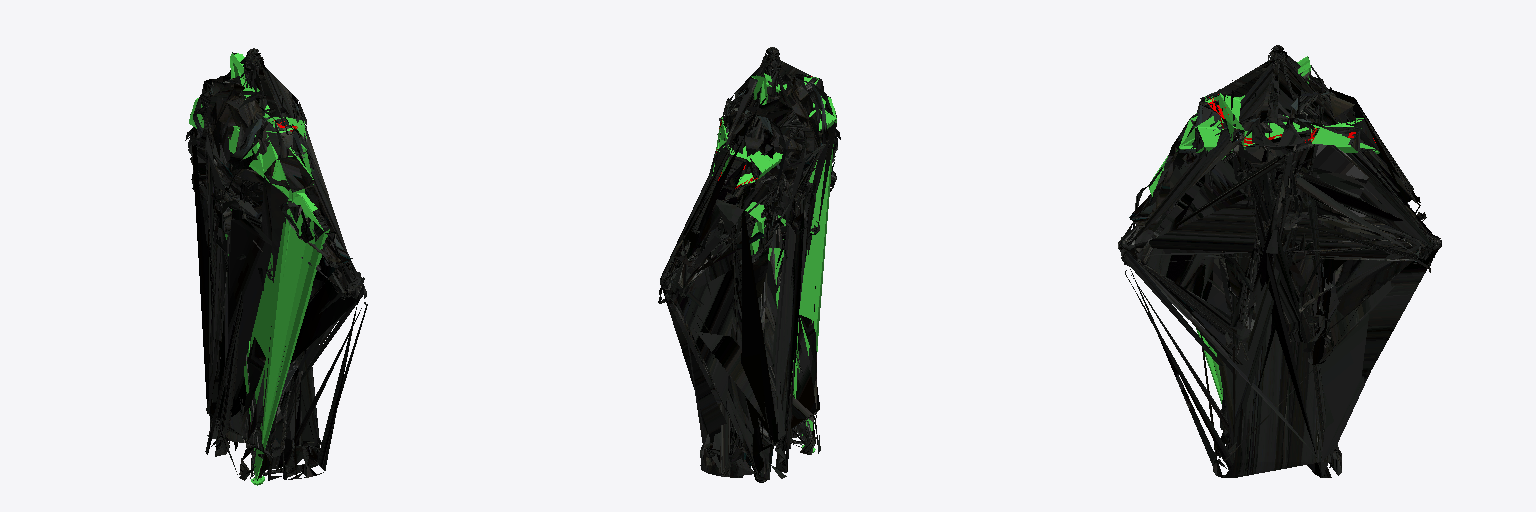
The picture shows the model from 3 angles: view 1: azimuth 30°, elevation 25°; view 2: azimuth 150°, elevation 25°; view 3: azimuth 270°, elevation 25°; orthographic projection.
Parts seen in each view (by area): view 1: body_standard1, spine1; view 2: body_standard1, spine1; view 3: body_standard1, spine1.
Part boxes in pixels (x1,y1,x2,y2): body_standard1: (185,48,367,480); spine1: (189,53,329,485); body_standard1: (658,47,840,482); spine1: (712,73,836,452); body_standard1: (1118,45,1441,477); spine1: (1148,56,1379,403).
Bounding box in the file's own units: 14.21 × 61.45 × 43.34.
Materials: 6 (4 with a texture image).